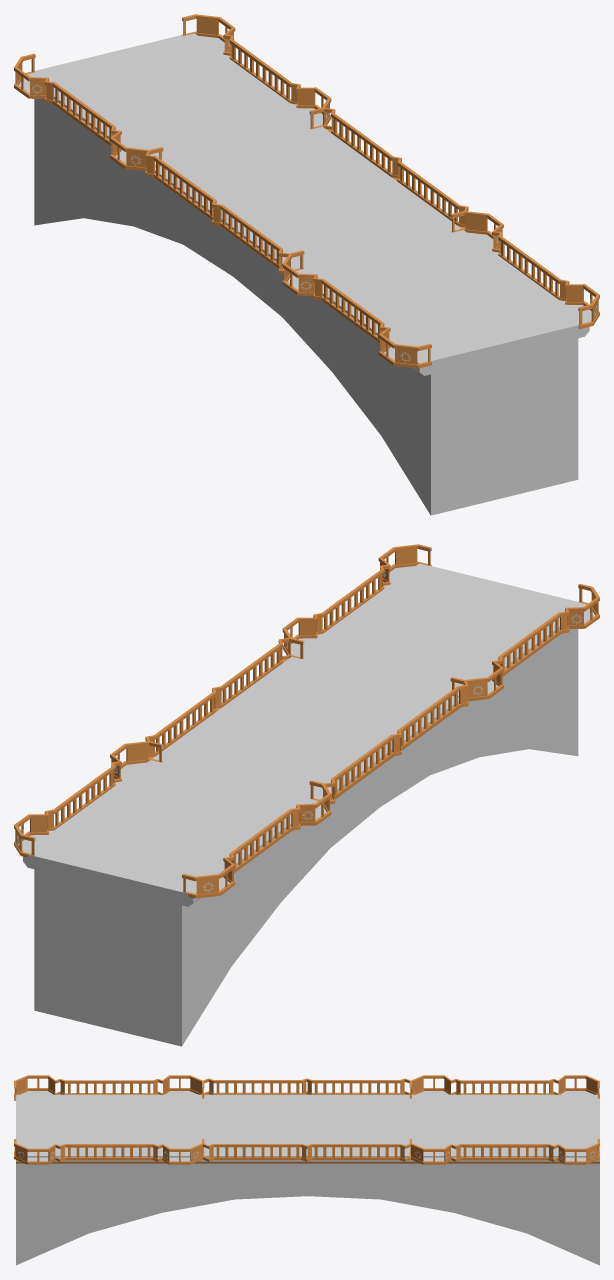
The model's file is prop_Bridge_Straight.fbx.
3 renders of one model, top to bottom at view 1: azimuth 30°, elevation 25°; view 2: azimuth 150°, elevation 25°; view 3: azimuth 270°, elevation 25°, orthographic. The views are drawn at different scales.
Parts seen in each view (by area): view 1: prop_Bridge_Straight; view 2: prop_Bridge_Straight; view 3: prop_Bridge_Straight.
Part boxes in pixels (left/top/right/bottom): prop_Bridge_Straight: left=14, top=14, right=599, bottom=515; prop_Bridge_Straight: left=14, top=544, right=599, bottom=1046; prop_Bridge_Straight: left=14, top=1075, right=599, bottom=1265.
Size of the model in its own units: 1182 by 939 by 3941.
